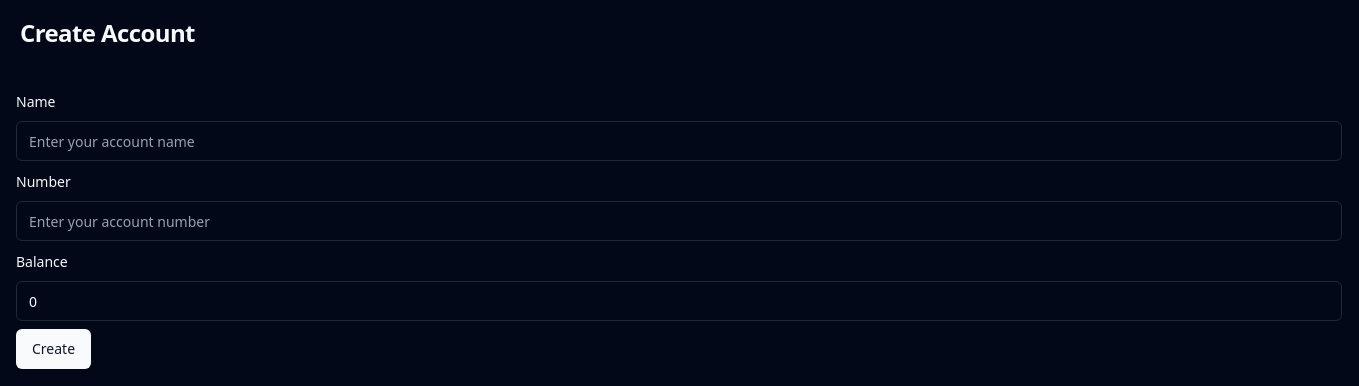
Test: Account Component › should render account information when accountId is defined
Type "Test Name" into the field with test id "accountName".
click(679, 141); type("Test Name")  # box [16,121,1342,161]
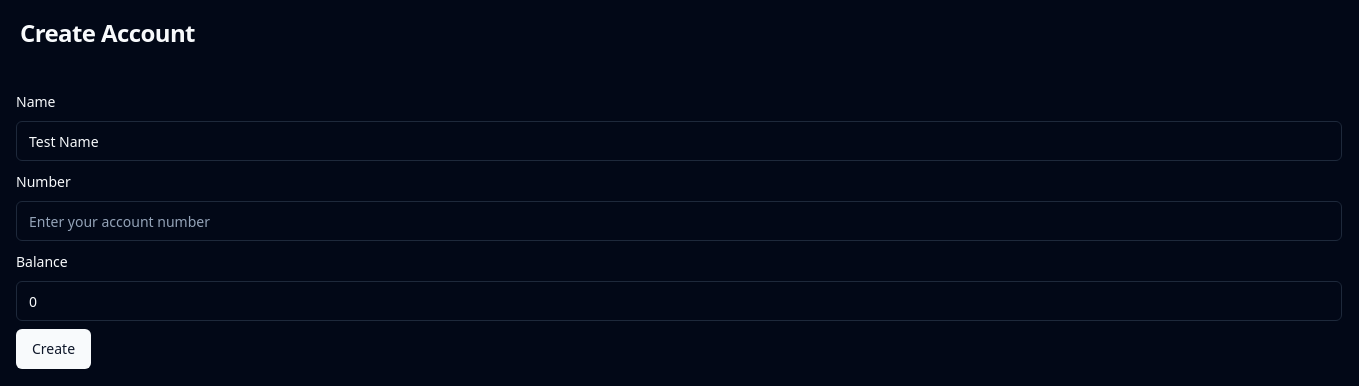
Type "1234567890" into the field with test id "accountNumber".
click(679, 221); type("1234567890")  # box [16,201,1342,241]
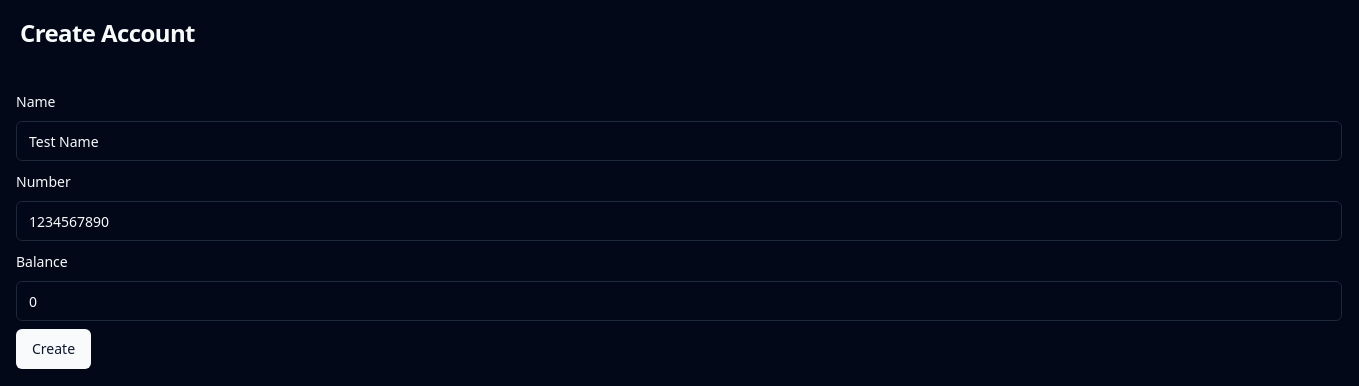
Replace the text in the number field with test id "balance" with "100" at (679,301), box [16,281,1342,321]
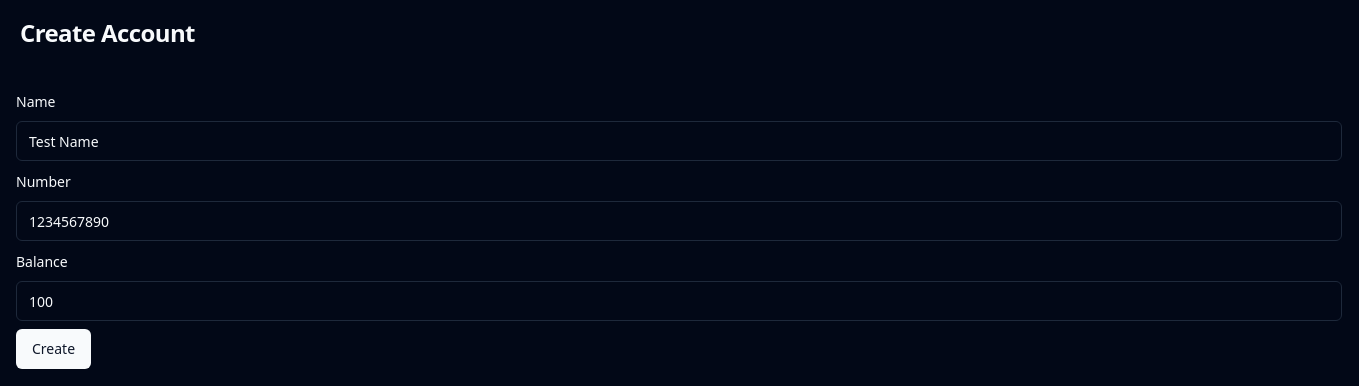
Click the button "Create".
click(54, 349)  # box [16,329,91,369]
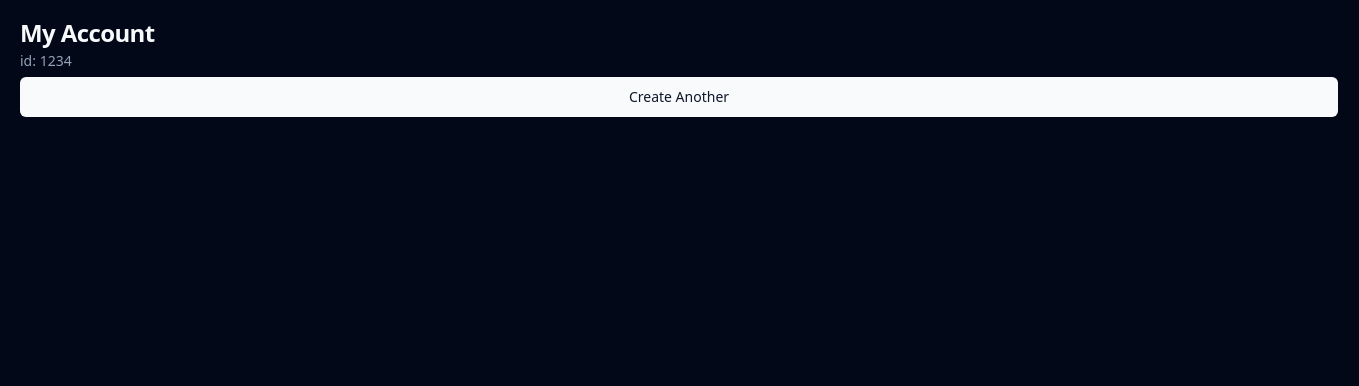
Expected: the heading "My Account" is shown, [20,16,155,49]
Expected: the text "id: 1234" is shown, [20,51,72,70]
